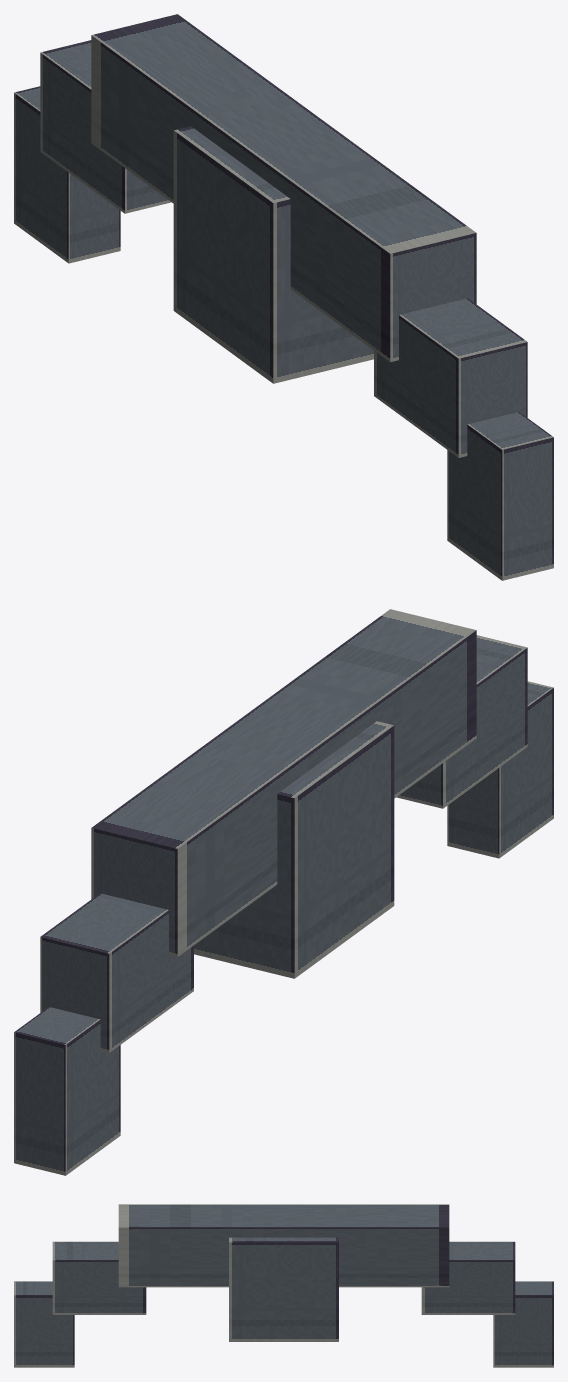
Rendered from workpiece_forged_pickaxe_tempered.obj.
The picture shows the model from 3 angles, top to bottom: view 1: azimuth 30°, elevation 25°; view 2: azimuth 150°, elevation 25°; view 3: azimuth 270°, elevation 25°; orthographic projection. The views are drawn at different scales.
Visible parts, largest first — view 1: geometry; view 2: geometry; view 3: geometry.
Part boxes in pixels (x1=…): geometry: x1=14, y1=14, x2=553, y2=580; geometry: x1=14, y1=609, x2=553, y2=1175; geometry: x1=14, y1=1204, x2=553, y2=1367.
Bounding box in the file's own units: 0.175 × 0.3625 × 1.22.
